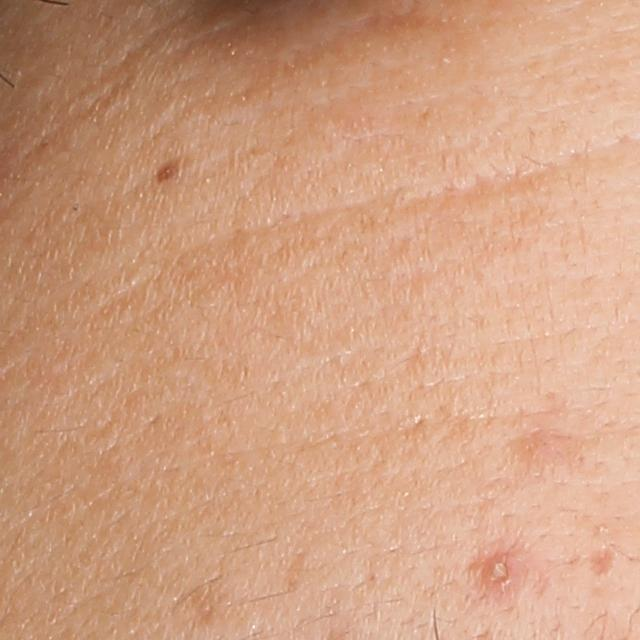atrophic_scar: (585, 543, 621, 581)
nevus: (150, 156, 189, 186)
pustule: (475, 547, 529, 608)
